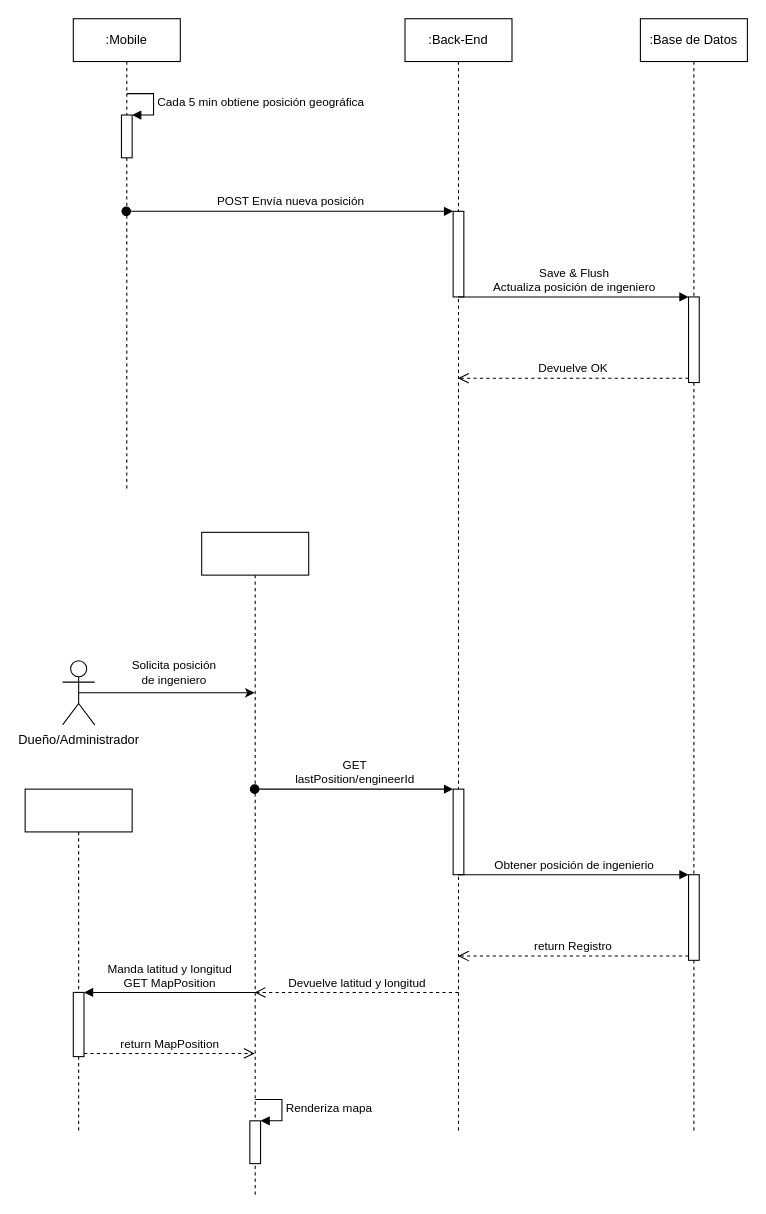
Image size: 766x1214. Some labels were removed from this diagram. Here are the shapes that lost their labels. From the top down, the box of each, then its label:
(201, 531, 309, 1196): :Web
(24, 788, 132, 1132): :GoogleMapsAPI
